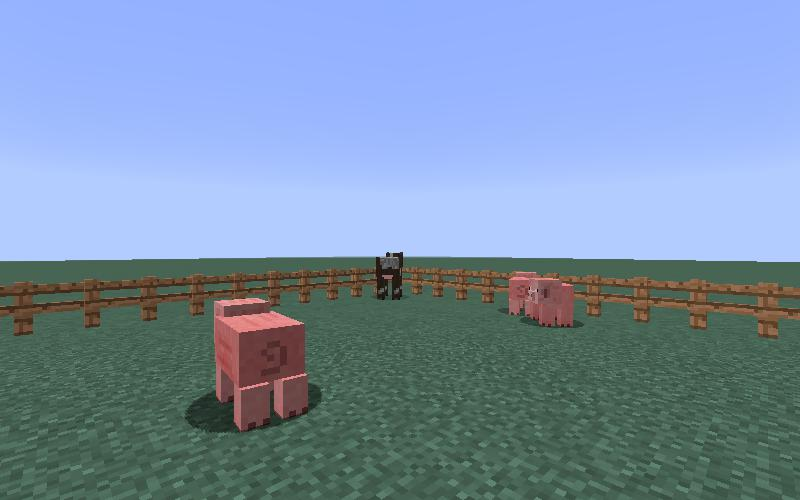cow: (372, 246, 409, 306)
pig: (208, 294, 313, 435), (507, 266, 574, 338)
